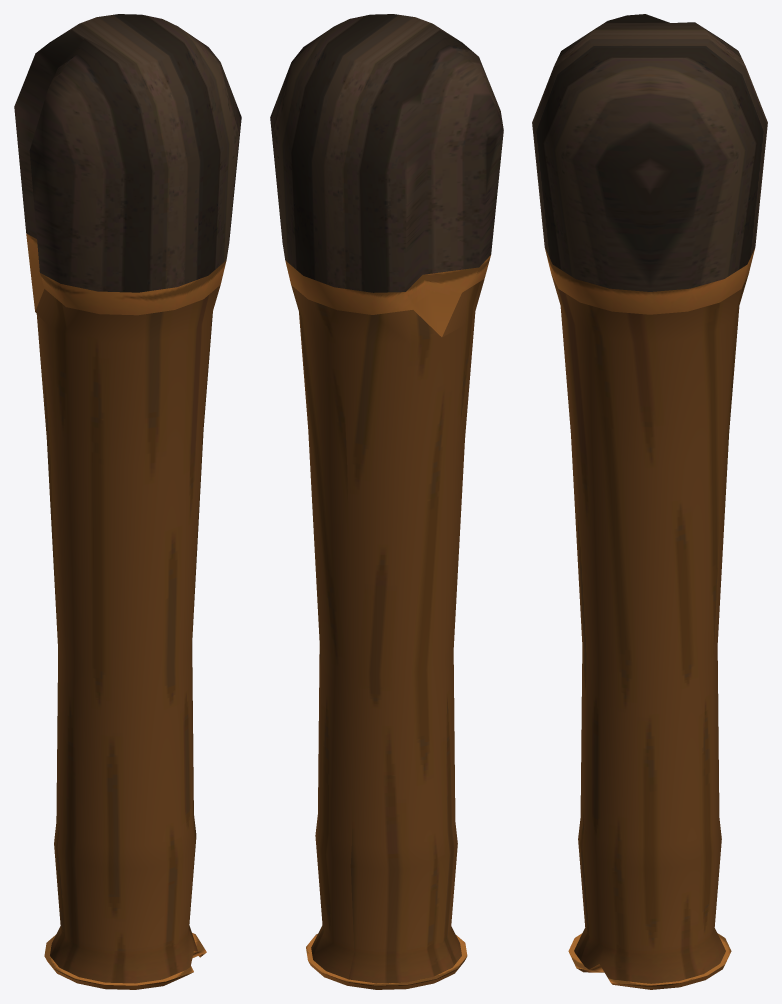
The model's file is WoodenTorch_Hand.fbx.
3 views of the same model, side by side, from view 1: azimuth 30°, elevation 25°; view 2: azimuth 150°, elevation 25°; view 3: azimuth 270°, elevation 25° (orthographic).
Parts seen in each view (by area): view 1: Capsule; view 2: Capsule; view 3: Capsule.
Part boxes in pixels (box(x1,y1,x2,y2)): Capsule: box(14, 14, 241, 989); Capsule: box(270, 14, 503, 989); Capsule: box(532, 14, 767, 989).
Size of the model in its own units: 0.2712 by 1.18 by 0.2747.
Materials: 1 (1 with a texture image).
